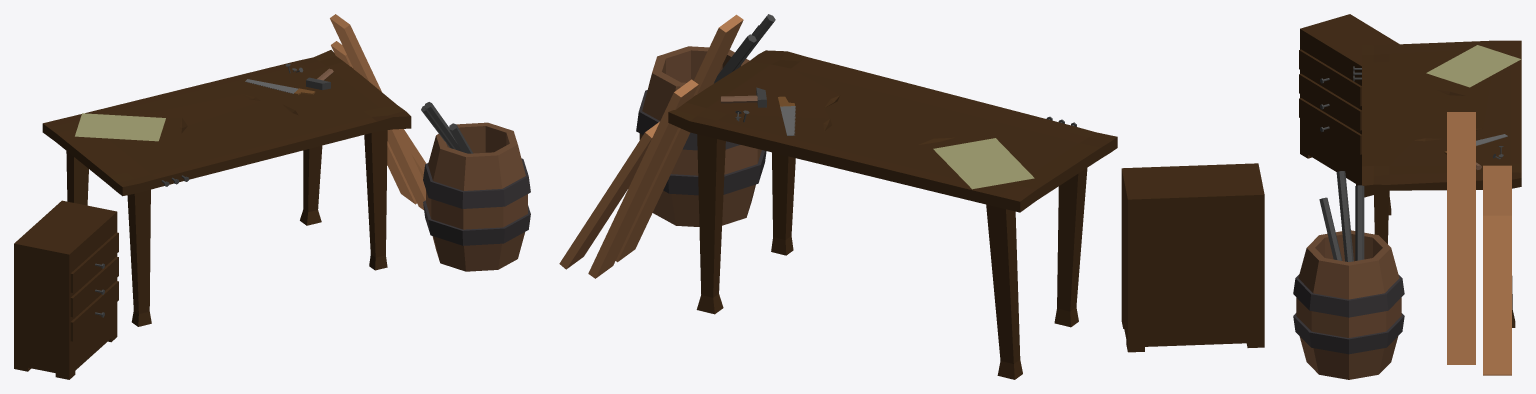
Rendered from crafting_table.fbx.
3 renders of one model, left to right at view 1: azimuth 30°, elevation 25°; view 2: azimuth 150°, elevation 25°; view 3: azimuth 270°, elevation 25°, orthographic. The views are drawn at different scales.
Visible parts, largest first — view 1: Circle.008, Cylinder; view 2: Circle.008, Cylinder; view 3: Circle.008, Cylinder.
Boxes of the visible parts, x1=… form: Circle.008: x1=14, y1=14, x2=473, y2=379; Cylinder: x1=423, y1=122, x2=530, y2=271; Circle.008: x1=559, y1=14, x2=1264, y2=379; Cylinder: x1=636, y1=46, x2=766, y2=226; Circle.008: x1=1299, y1=14, x2=1521, y2=375; Cylinder: x1=1293, y1=230, x2=1404, y2=379.
Bounding box in the file's own units: 591 × 240 × 230.
